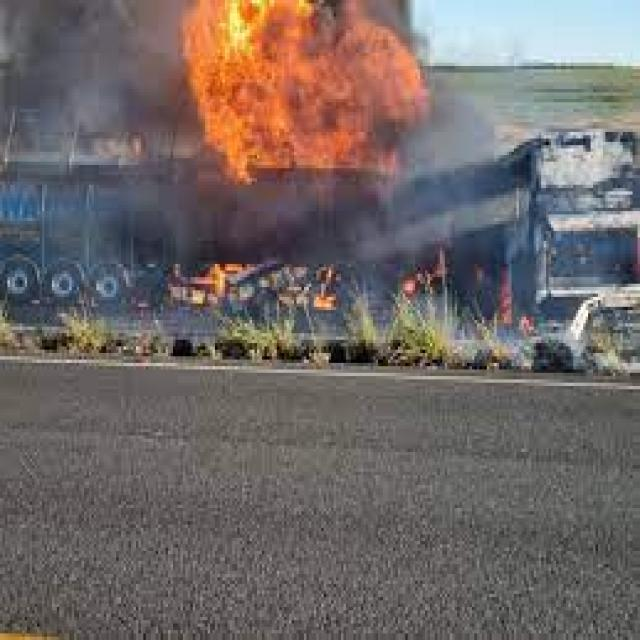fire: (178, 3, 437, 182)
smoke: (2, 3, 178, 185), (403, 49, 524, 214)
